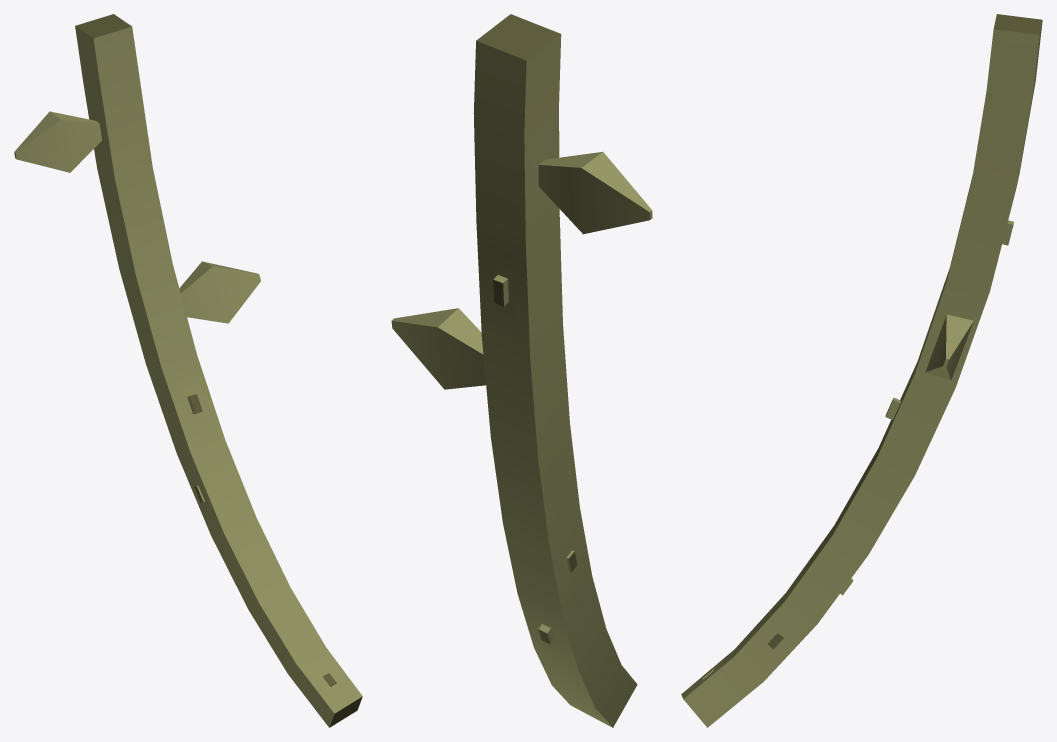
File: Vine.fbx
3 renders of one model, left to right at view 1: azimuth 30°, elevation 25°; view 2: azimuth 150°, elevation 25°; view 3: azimuth 270°, elevation 25°, orthographic. The views are drawn at different scales.
Visible parts, largest first — view 1: chopped_vine; view 2: chopped_vine; view 3: chopped_vine.
Part boxes in pixels (x1=…): chopped_vine: x1=14, y1=14, x2=362, y2=727; chopped_vine: x1=391, y1=14, x2=652, y2=727; chopped_vine: x1=681, y1=14, x2=1042, y2=727.
Size of the model in its own units: 13.49 by 37.23 by 18.45.
